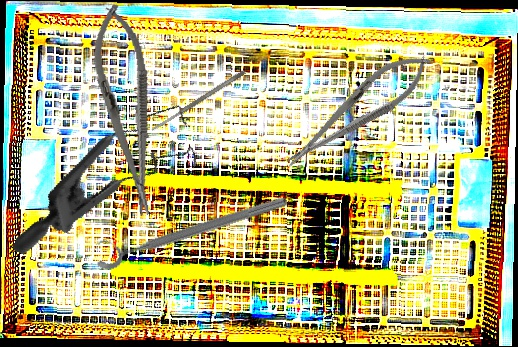Fixation Ring: (89, 180, 291, 274)
Needle Holder: (274, 39, 441, 181), (84, 1, 170, 220)
Spatula Surgical: (148, 68, 248, 134)
Speculum: (11, 67, 215, 303)
